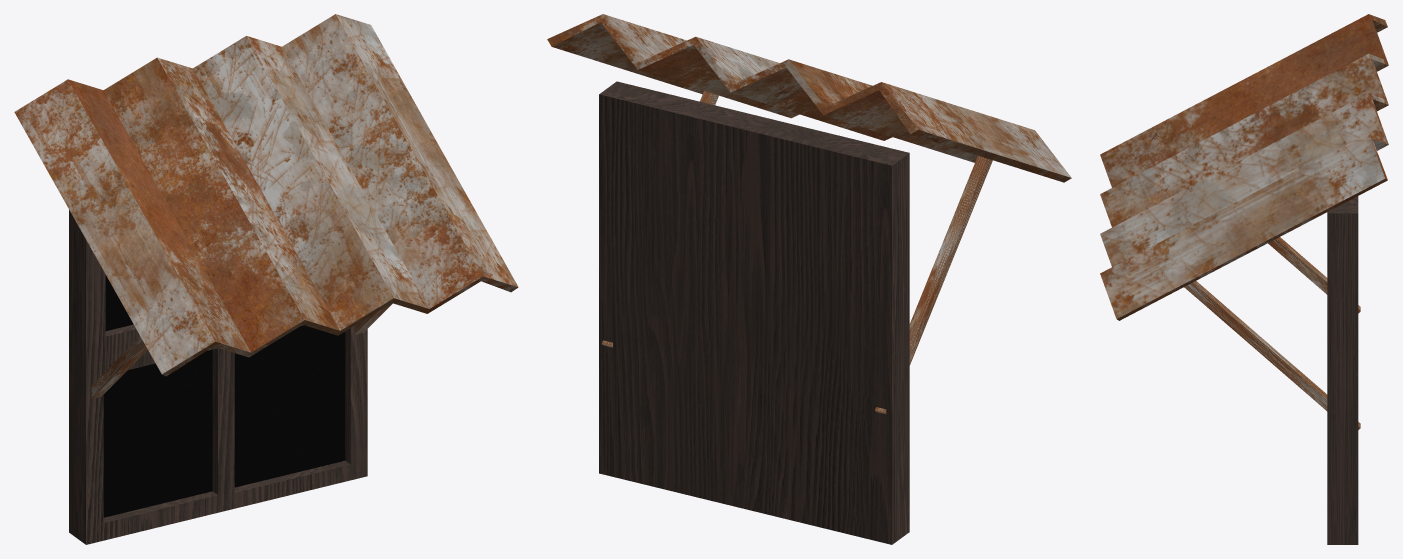
File: Ventana.fbx
The picture shows the model from 3 angles, left to right: view 1: azimuth 30°, elevation 25°; view 2: azimuth 150°, elevation 25°; view 3: azimuth 270°, elevation 25°; orthographic projection. The views are drawn at different scales.
Visible parts, largest first — view 1: Cube.002; view 2: Cube.002; view 3: Cube.002.
Part boxes in pixels (bbox=[...]): Cube.002: bbox=[14, 14, 518, 544]; Cube.002: bbox=[547, 14, 1071, 544]; Cube.002: bbox=[1100, 14, 1388, 544].
Bounding box in the file's own units: 271 × 325 × 208.
